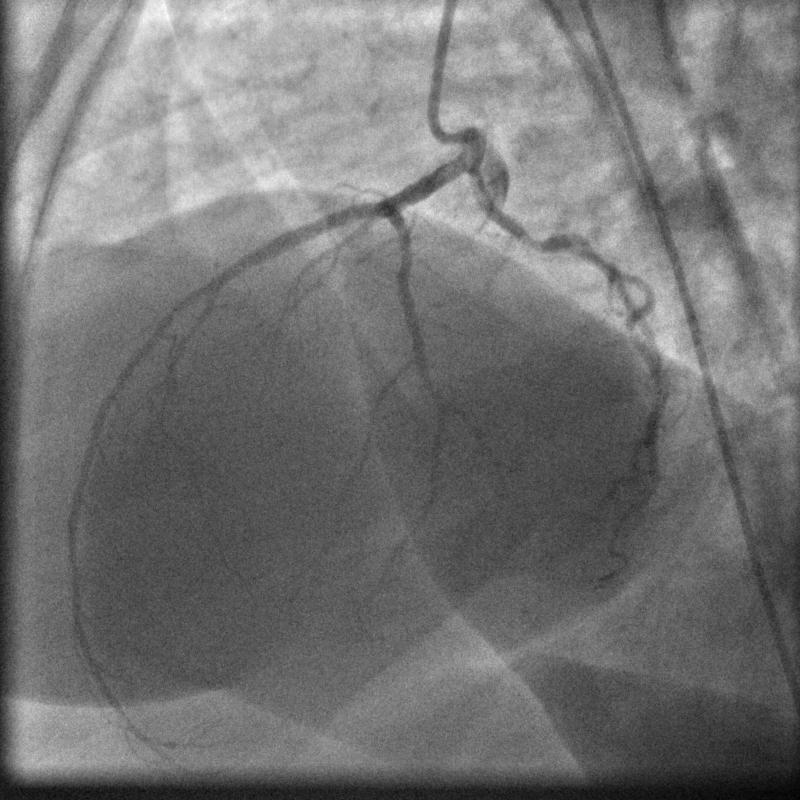Stenosis: (511, 214, 556, 261)
